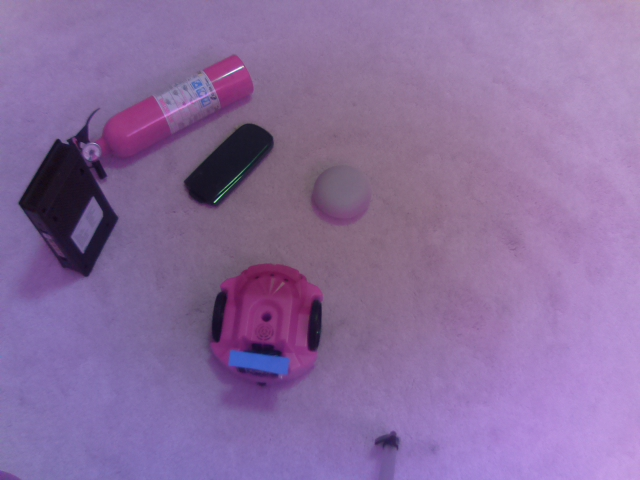board: (222, 340, 298, 381)
chassis: (206, 260, 323, 392)
